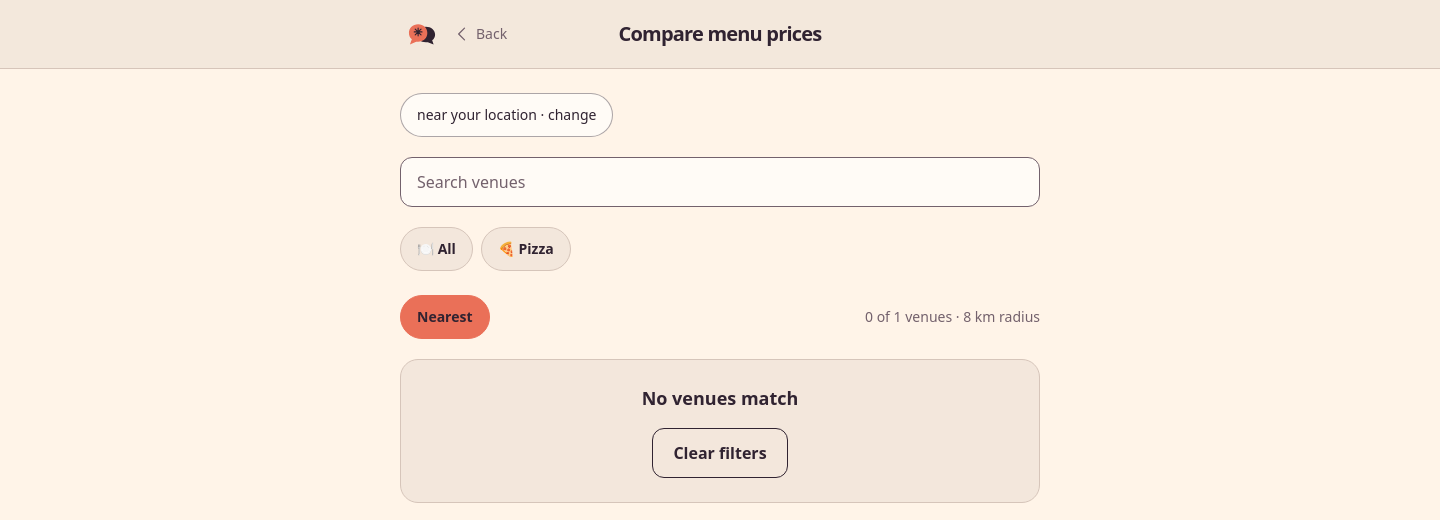
Test: ComparePage › restores a Cuisine filter and offers one-tap clear when it matches no Venues
Expected: the text "No venues match" is shown, [642, 386, 798, 410]
Click the button "Clear filters": (720, 453) [652, 428, 788, 478]
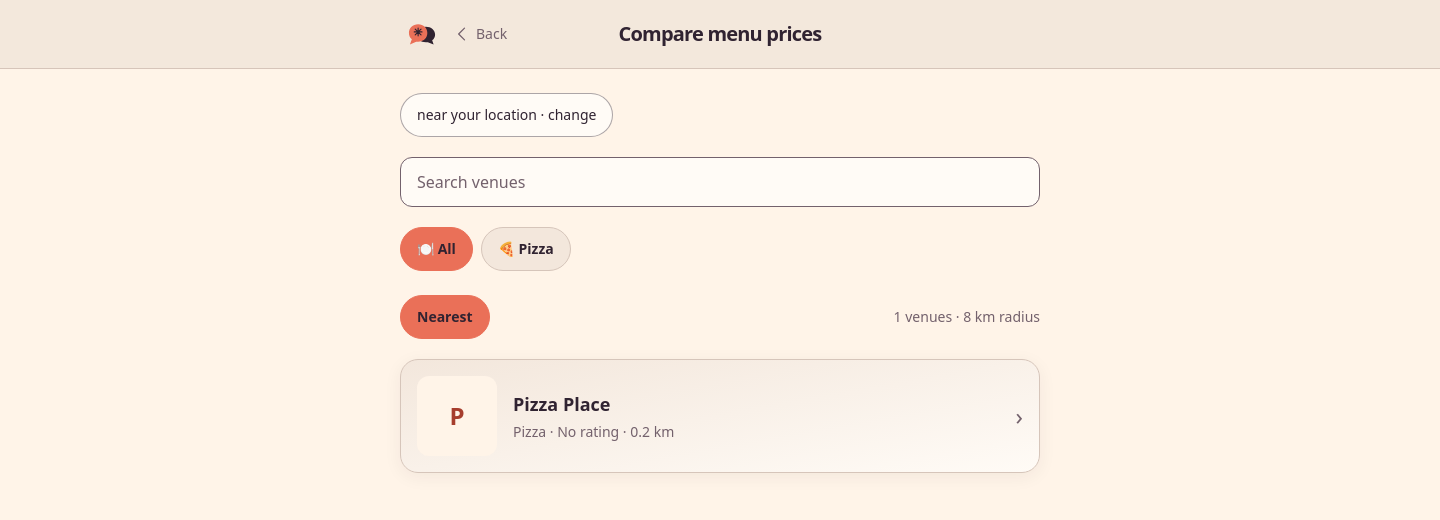
Expected: the text "Pizza Place" is shown, [513, 392, 610, 416]
